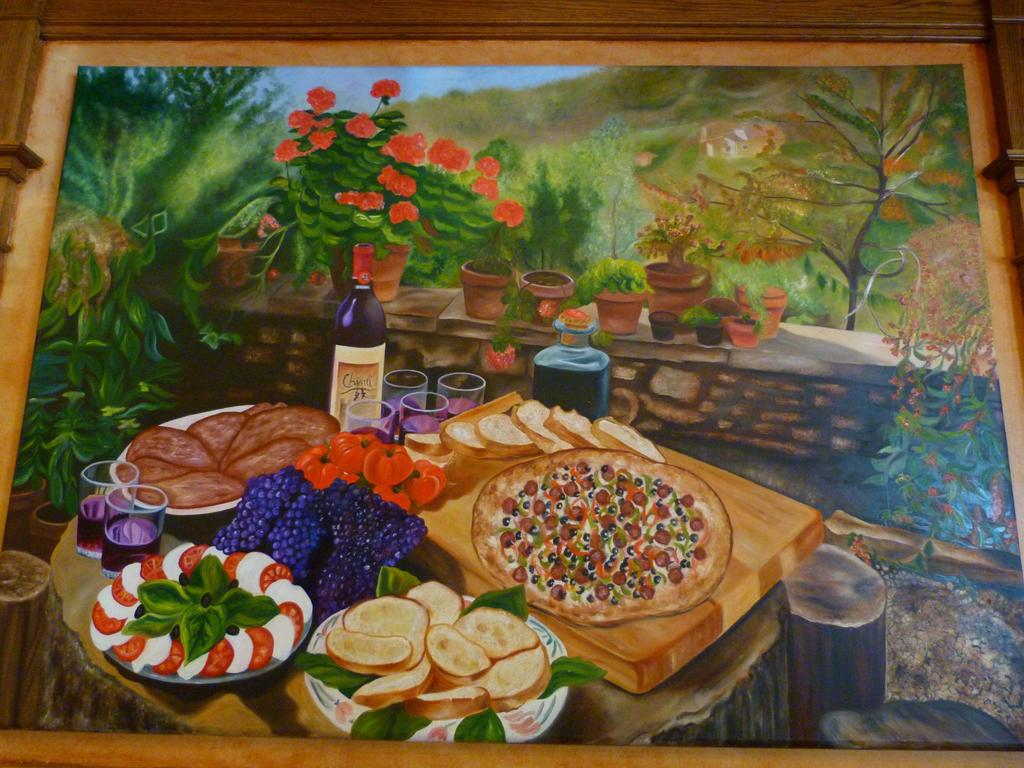Pizza: (471, 458, 727, 650)
